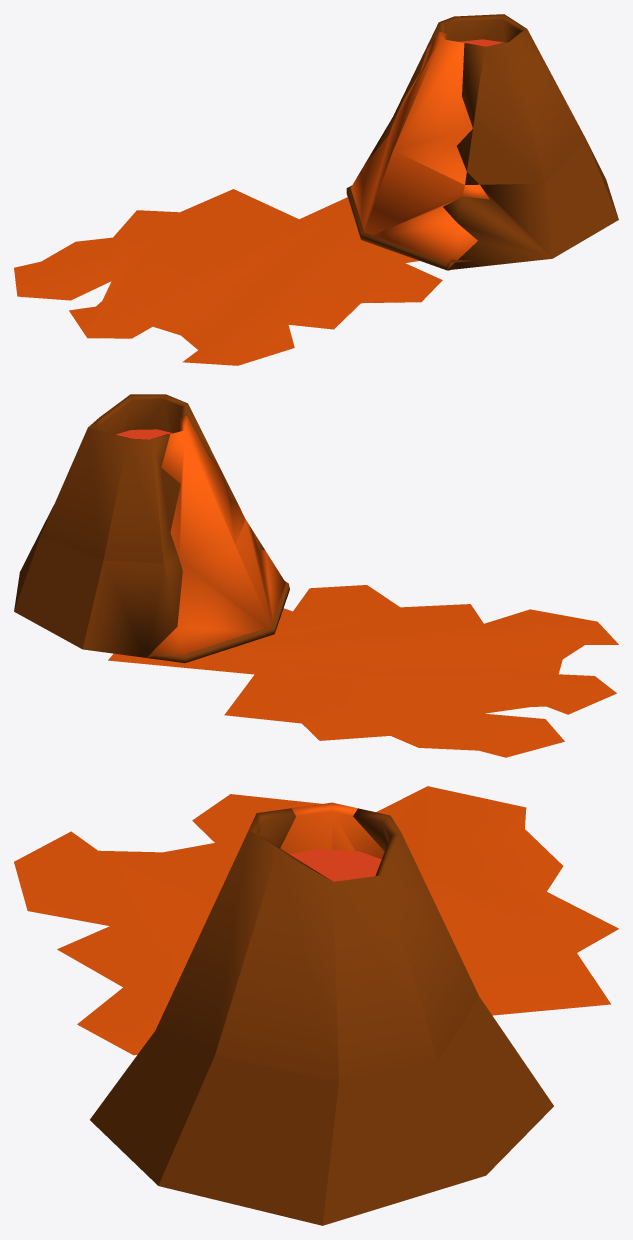
Rendered from deadVFull.fbx.
3 renders of one model, top to bottom at view 1: azimuth 30°, elevation 25°; view 2: azimuth 150°, elevation 25°; view 3: azimuth 270°, elevation 25°, orthographic. The views are drawn at different scales.
Parts seen in each view (by area): view 1: fireRiver, daedV.001, daedVLfull; view 2: fireRiver, daedV.001, daedVLfull; view 3: daedV.001, fireRiver, daedVLfull, deadVL.
Part boxes in pixels (box(x1,y1,x2,y2)): fireRiver: box(14, 189, 442, 365); daedV.001: box(346, 14, 618, 270); daedVLfull: box(350, 31, 489, 270); fireRiver: box(108, 585, 618, 757); daedV.001: box(14, 394, 289, 662); daedVLfull: box(147, 416, 285, 663); daedV.001: box(90, 808, 553, 1225); fireRiver: box(14, 786, 618, 1055); daedVLfull: box(280, 802, 384, 859); deadVL: box(290, 849, 381, 881).
Size of the model in its own units: 1095 by 355 by 628.
